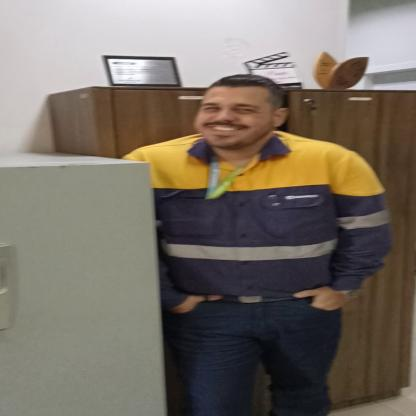Operacional: (119, 131, 399, 295)
